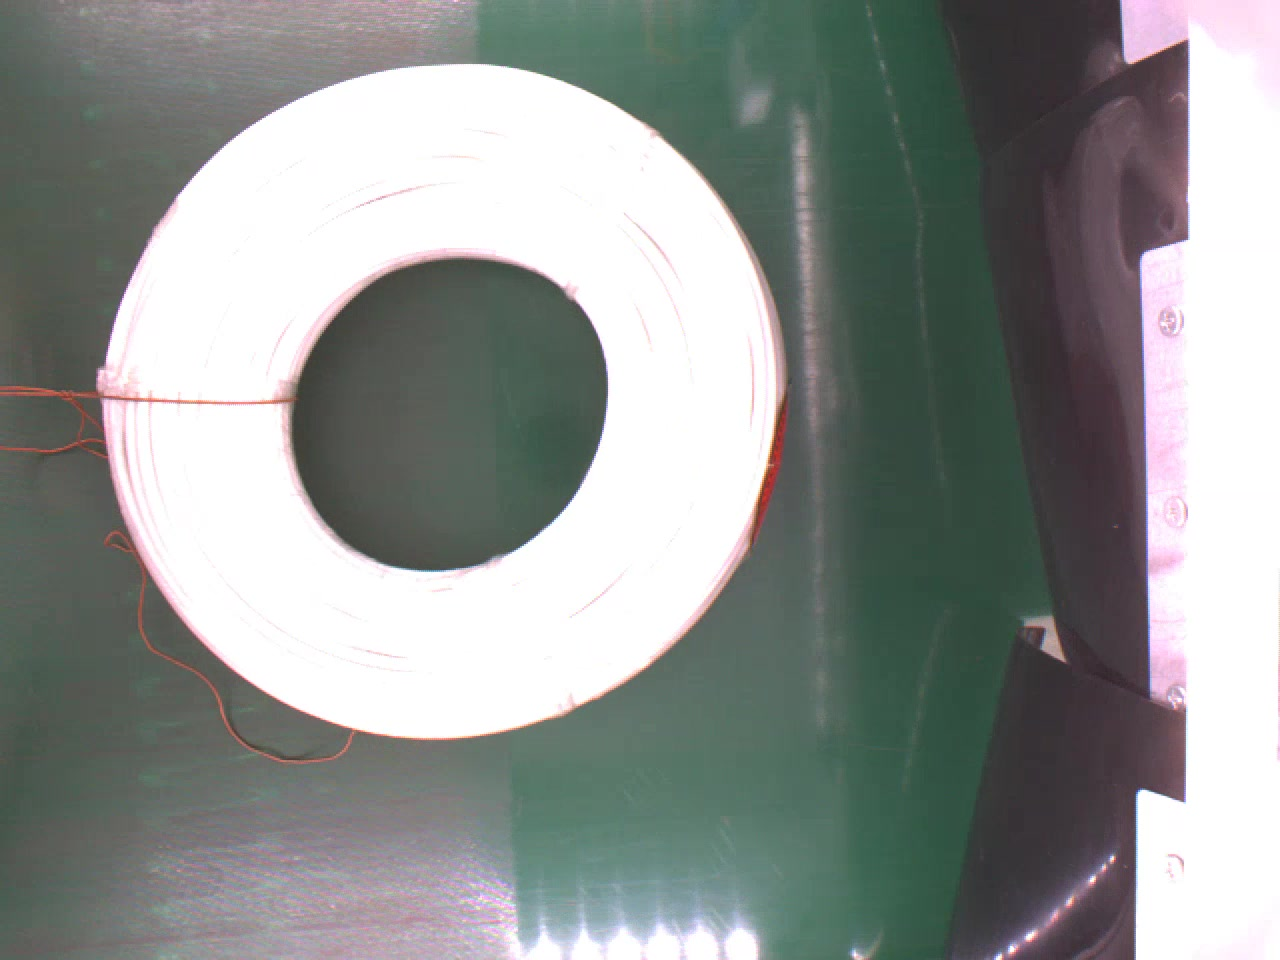white: (97, 61, 778, 732)
